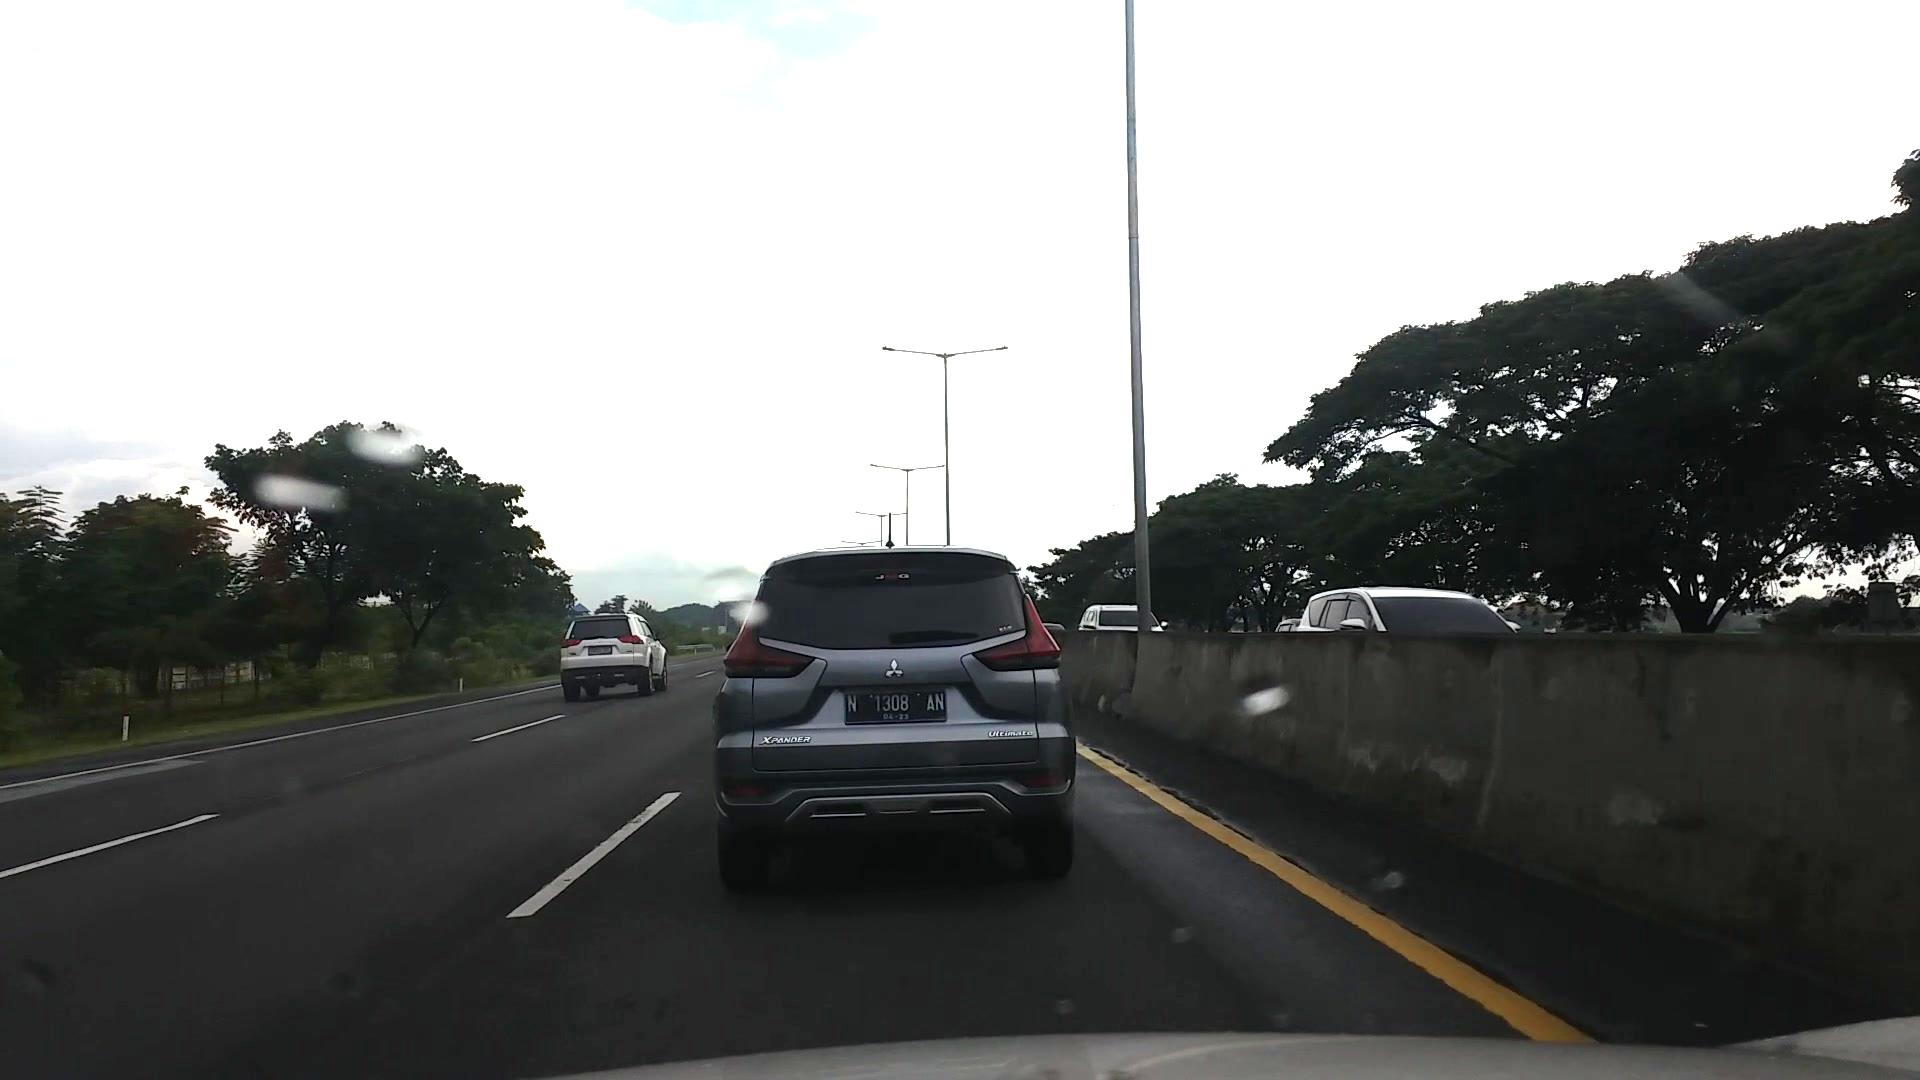plate_positive: (844, 688, 947, 725)
